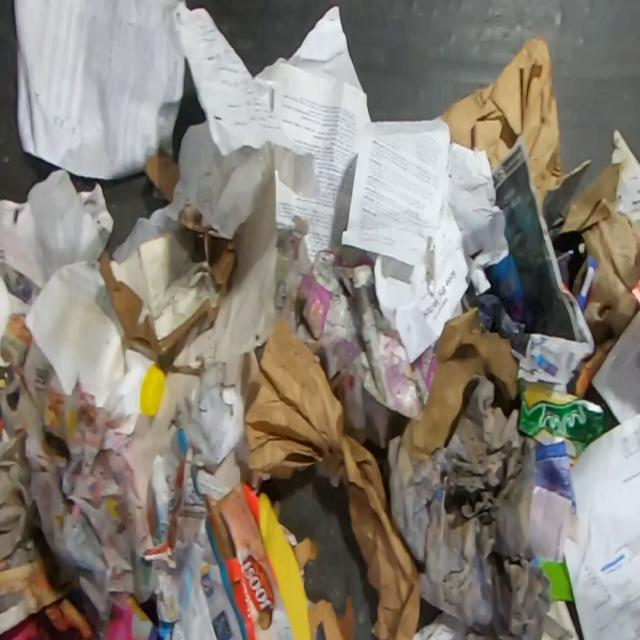cardboard: (272, 210, 436, 452), (438, 33, 564, 214), (98, 199, 238, 356), (402, 304, 520, 462), (560, 163, 640, 396), (197, 480, 312, 640), (517, 379, 605, 468), (542, 156, 594, 243), (610, 128, 640, 224), (307, 594, 357, 640), (142, 150, 180, 204), (292, 534, 318, 571)
rigid_plastic: (138, 361, 167, 417)
